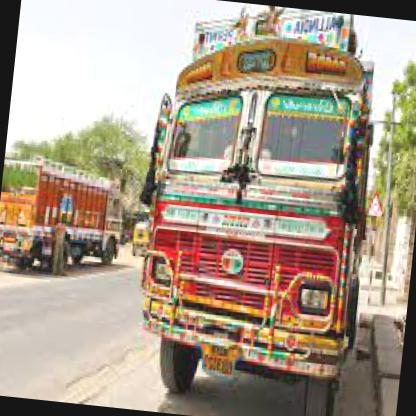truck: (0, 14, 295, 415)
